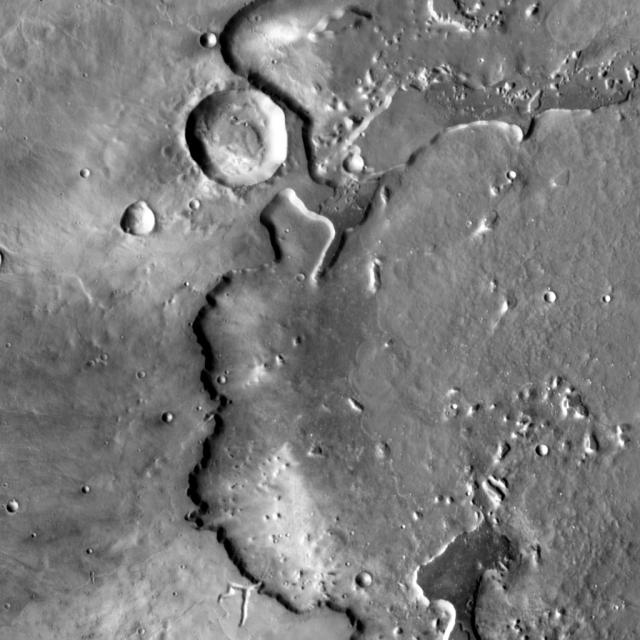crater: (194, 87, 298, 187), (126, 203, 162, 238), (350, 152, 372, 174), (362, 572, 378, 588), (208, 33, 224, 48), (195, 199, 207, 210), (543, 446, 555, 457), (551, 294, 562, 305), (14, 504, 25, 514), (513, 173, 523, 183), (87, 170, 97, 180), (170, 412, 180, 422), (224, 376, 232, 384), (143, 371, 151, 378), (302, 274, 310, 281), (608, 295, 616, 302), (87, 486, 95, 493), (100, 347, 106, 353)
